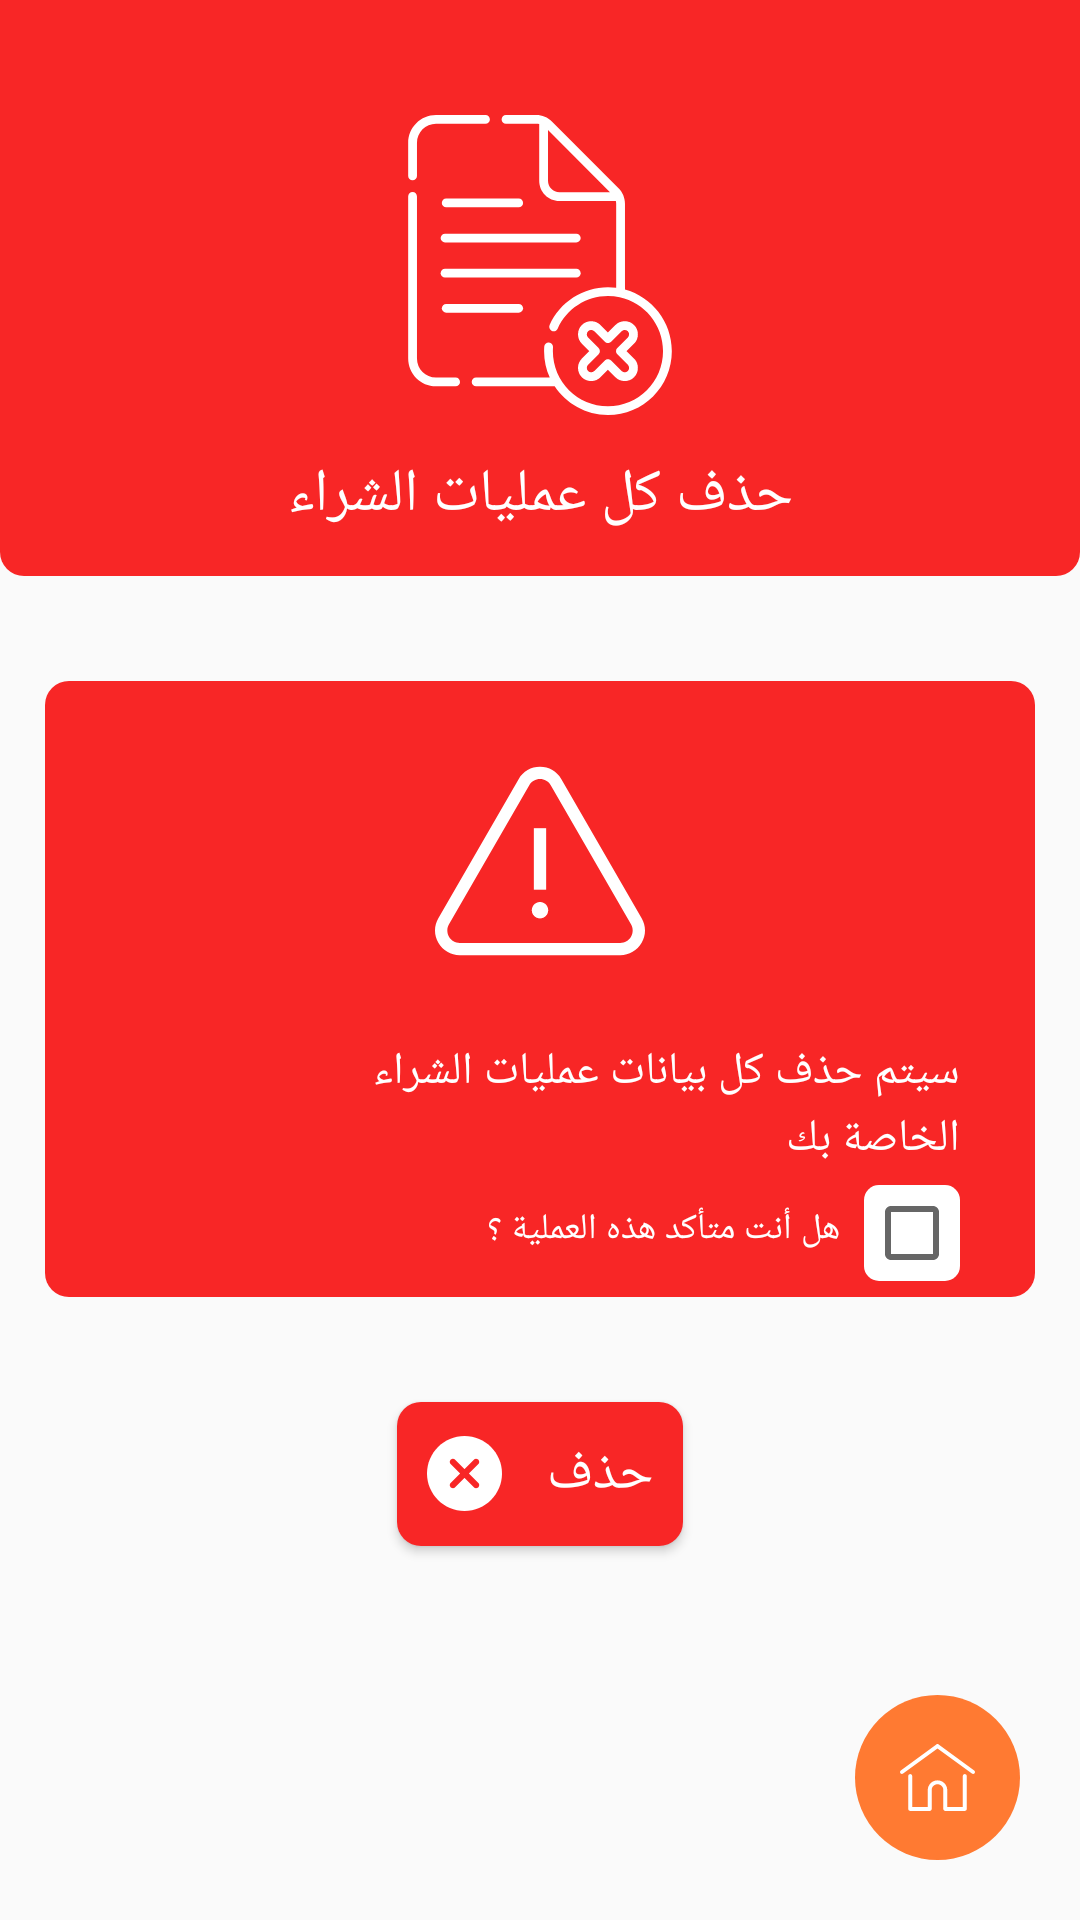

Screen size 1080 x 1920. Icon name, then its center in pixels as point (x, y):
alert: point (540, 861)
file: point (540, 265)
home: point (937, 1777)
